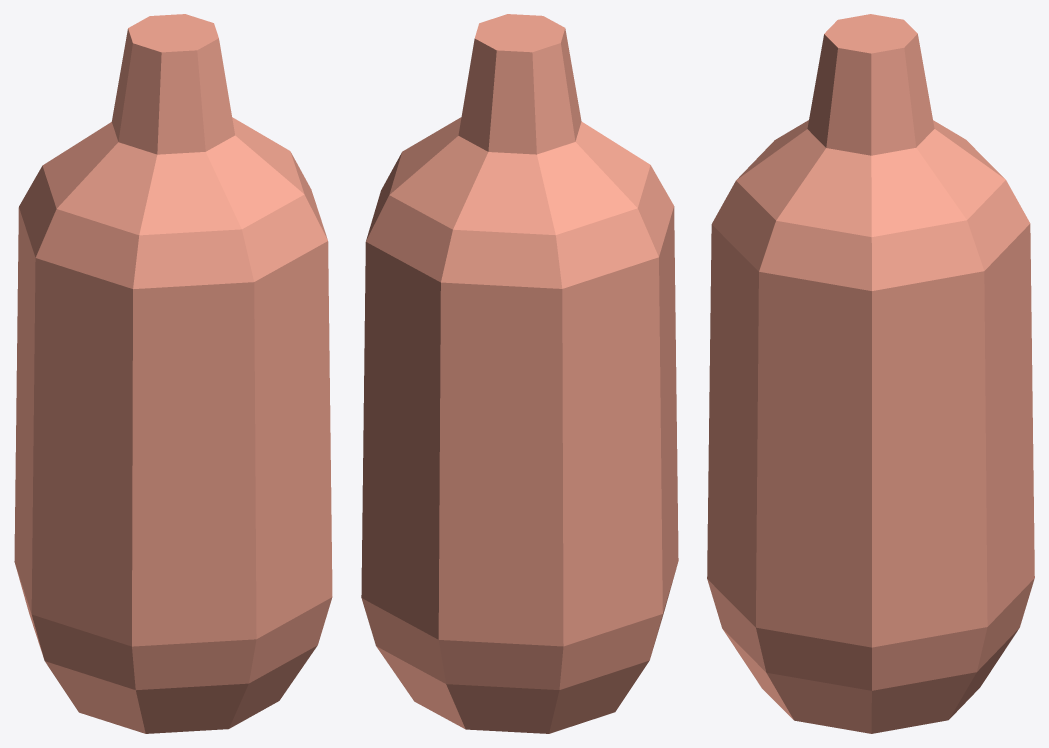
The model's file is Whisky4.fbx.
3 views of the same model, side by side, from view 1: azimuth 30°, elevation 25°; view 2: azimuth 150°, elevation 25°; view 3: azimuth 270°, elevation 25° (orthographic).
Visible parts, largest first — view 1: Whisky4; view 2: Whisky4; view 3: Whisky4.
Boxes of the visible parts, x1=… form: Whisky4: x1=14, y1=14, x2=332, y2=733; Whisky4: x1=361, y1=14, x2=678, y2=733; Whisky4: x1=707, y1=14, x2=1034, y2=733.
Size of the model in its own units: 0.0718 by 0.1582 by 0.0718.
Materials: 1 (1 with a texture image).
